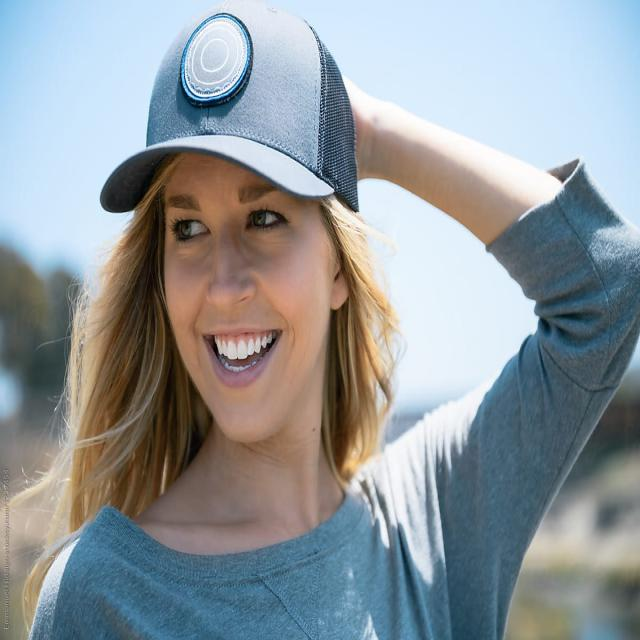Nonhelmet: (82, 0, 372, 460)
